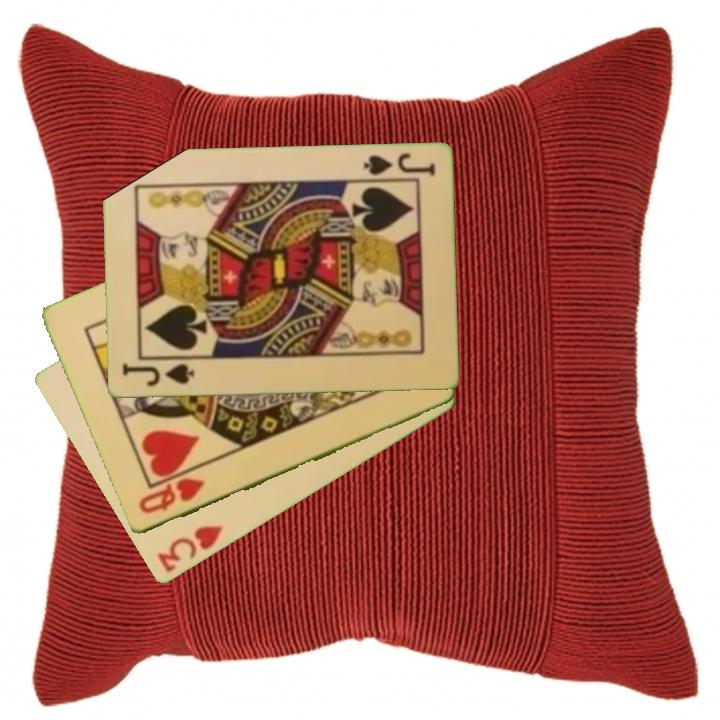3h: (153, 522, 226, 576)
Js: (118, 360, 197, 390), (359, 150, 437, 180)
Qh: (134, 474, 207, 517)
